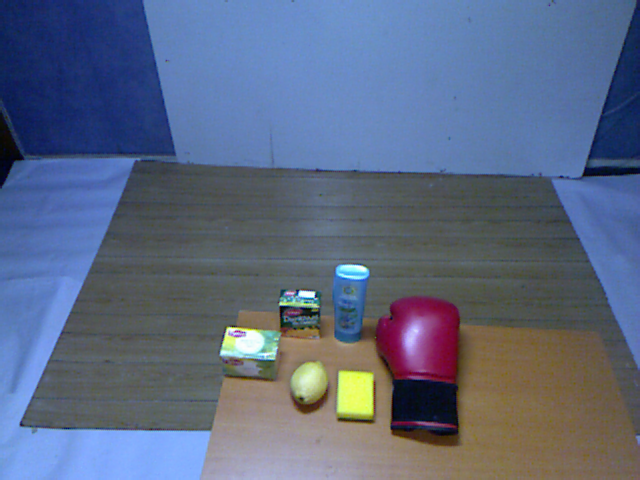balsamo: (327, 259, 376, 350)
durazno: (271, 283, 326, 343)
guante: (368, 289, 471, 440)
limon: (281, 357, 336, 414)
te: (212, 320, 287, 385)
